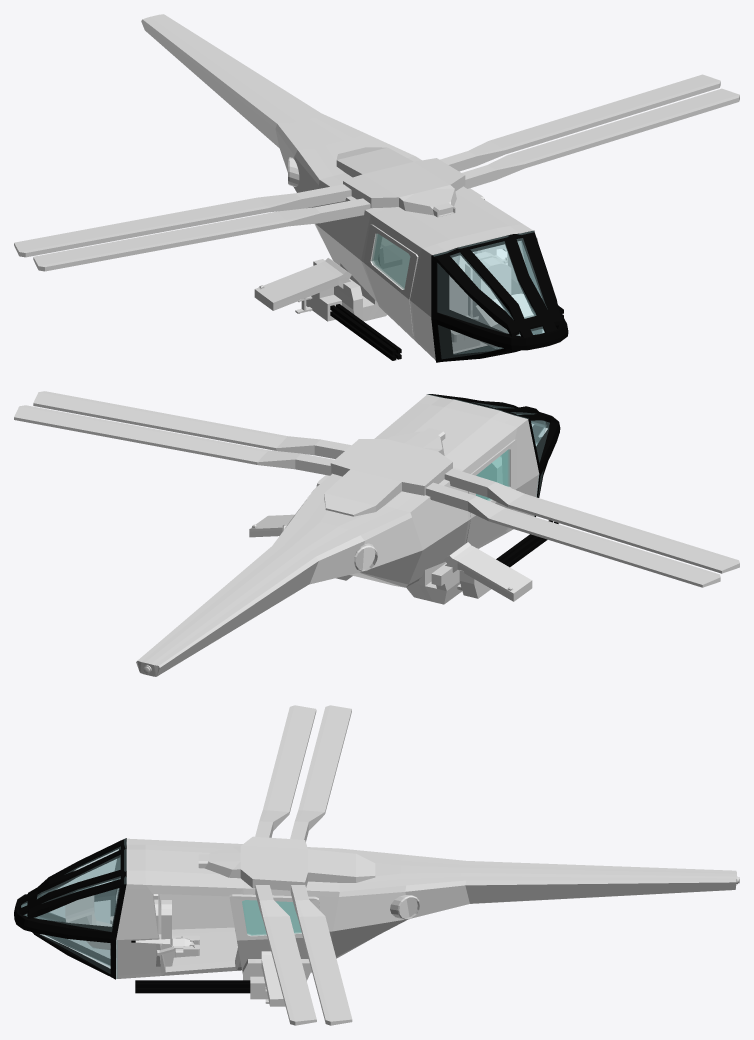
The model's file is DRAGONFLYMODERNEXPORT.fbx.
3 renders of one model, top to bottom at view 1: azimuth 30°, elevation 25°; view 2: azimuth 150°, elevation 25°; view 3: azimuth 270°, elevation 25°, orthographic. The views are drawn at different scales.
Visible parts, largest first — view 1: Cube.041, cockpitframe, Cube.058, cockpit, backblade.001, forwardblade.001, forwardblade, backblade, Cube.016, door_right, barrel.001, Cube.060 (+4 smaller); view 2: Cube.041, Cube.058, backblade.001, forwardblade.001, backblade, forwardblade, Cube.016, cockpitframe, door_right, Cube.060, barrel.001, cockpit (+1 smaller); view 3: Cube.041, cockpitframe, Cube.058, cockpit, backblade, forwardblade, backblade.001, forwardblade.001, door_right, door_left, barrel, Cube.016 (+3 smaller).
Boxes of the visible parts, x1,y1,x2,y2 form: Cube.041: (141,14,532,359); cockpitframe: (431,230,568,362); Cube.058: (336,147,465,217); cockpit: (433,231,545,358); backblade.001: (14,184,351,257); forwardblade.001: (33,198,372,271); forwardblade: (462,88,739,188); backblade: (440,74,720,171); Cube.016: (254,237,537,321); door_right: (363,224,418,335); barrel.001: (330,304,401,360); Cube.060: (372,234,410,289); Cube.041: (136,394,539,676); Cube.058: (324,428,452,516); backblade.001: (425,482,720,587); forwardblade.001: (444,468,739,573); backblade: (14,405,334,475); forwardblade: (33,391,351,458); Cube.016: (249,514,532,604); cockpitframe: (427,394,560,516); door_right: (466,439,517,547); Cube.060: (476,449,509,500); barrel.001: (496,520,558,567); cockpit: (428,394,549,497); Cube.041: (116,838,736,978); cockpitframe: (14,838,126,979); Cube.058: (198,836,375,890); cockpit: (21,839,126,978); backblade: (290,885,352,1025); forwardblade: (255,885,316,1025); backblade.001: (290,705,351,841); forwardblade.001: (255,705,316,837); door_right: (159,894,234,929); door_left: (229,894,319,973); barrel: (135,980,250,993); Cube.016: (243,951,311,1006).
Size of the model in its own units: 616 by 97.9 by 597.
